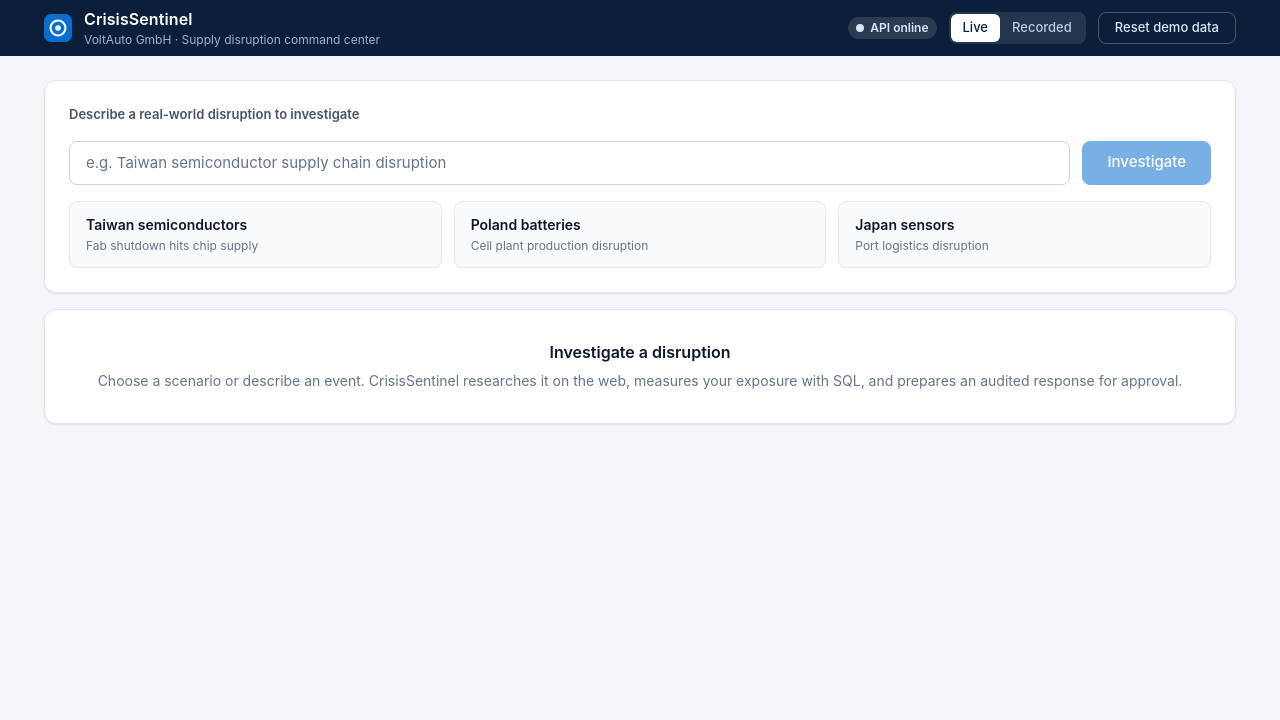
CrisisSentinel UI › renders the recorded Taiwan run with SQL-derived KPIs, plan, critic and evidence
The image size is (1280, 720).
Click the button "Recorded" at (1042, 28), box [1000, 14, 1084, 42]
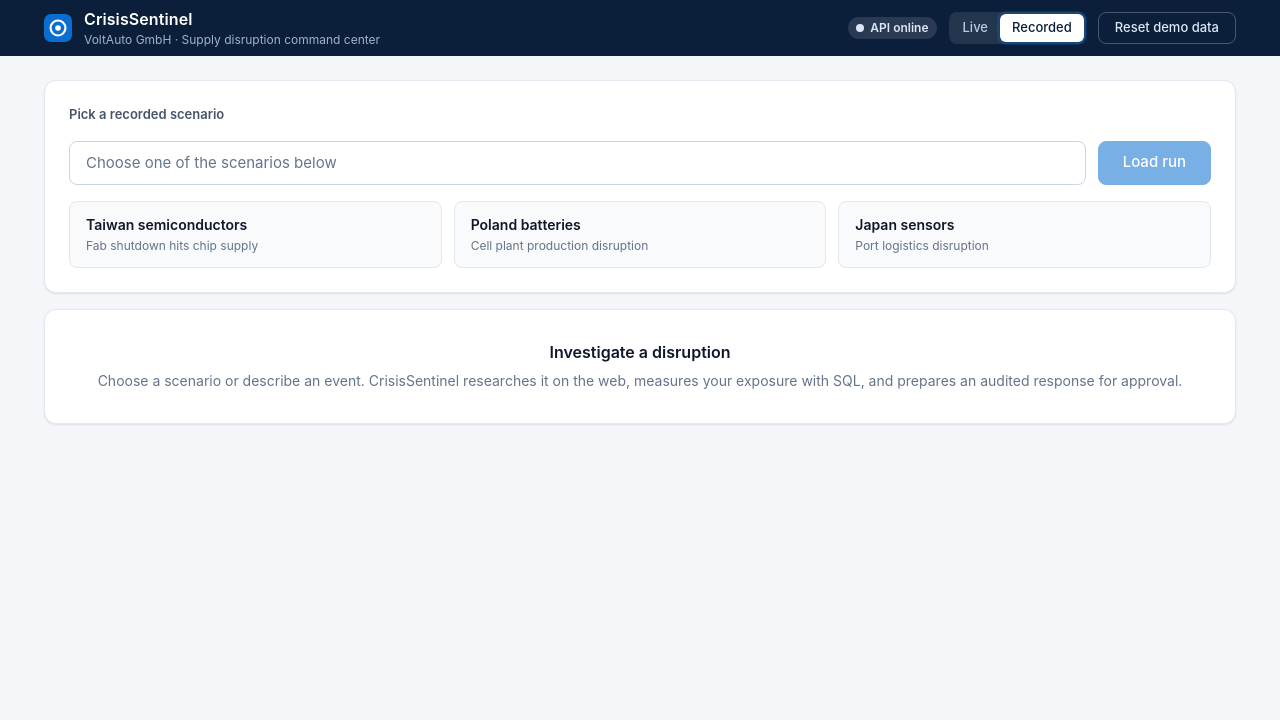
Click the button "Taiwan semiconductors Fab shutdown hits chip supply" at (167, 224), box [69, 200, 442, 268]
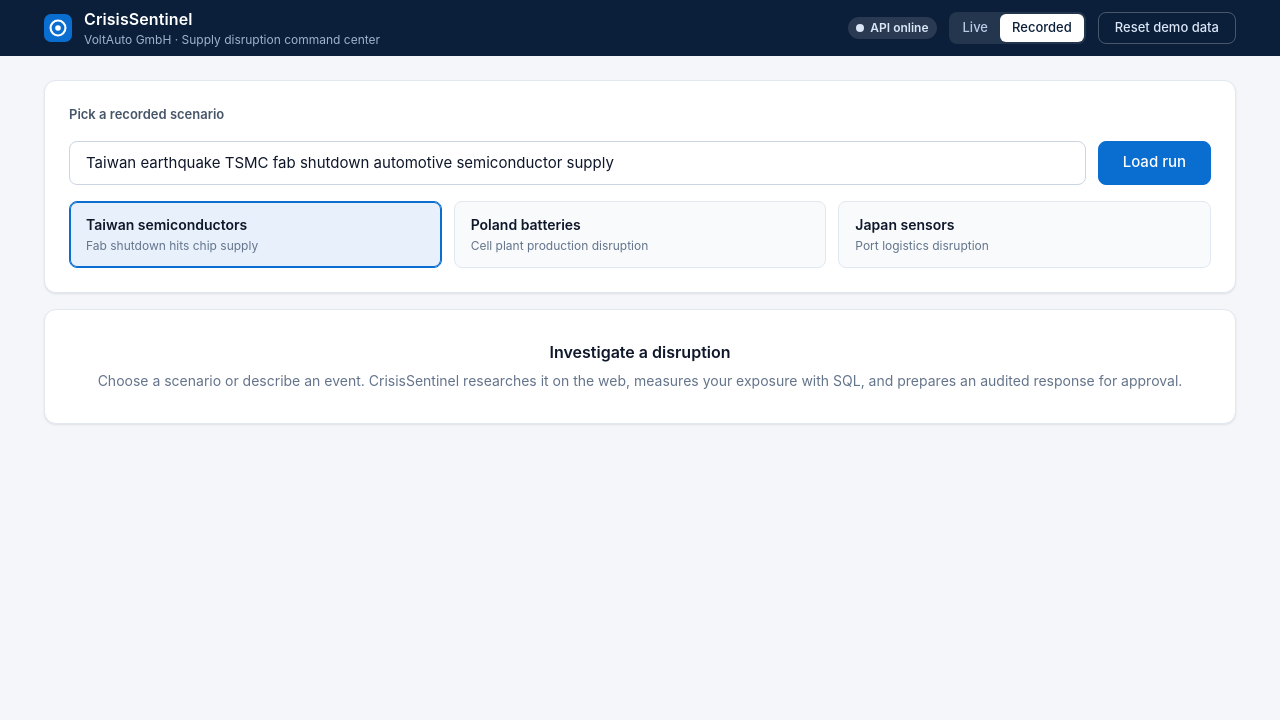
Click the button "Load run" at (1154, 162), box [1098, 140, 1211, 184]
(page scrolled)
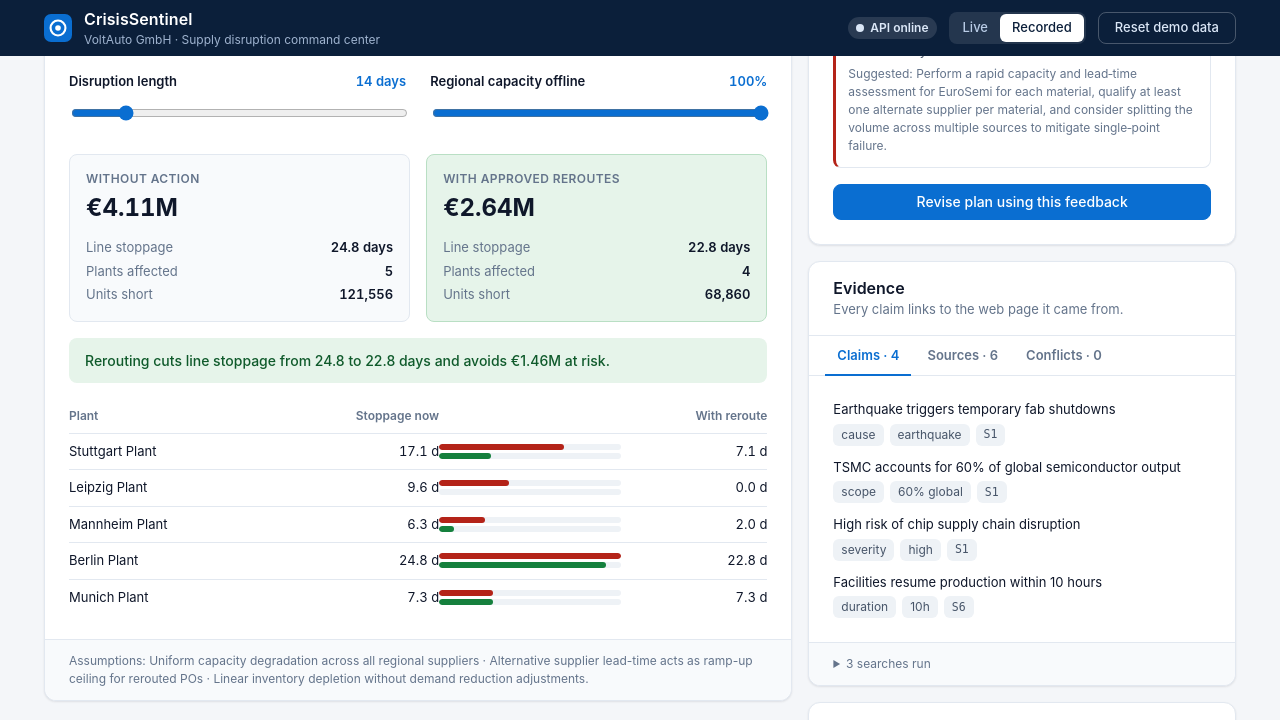
Expected: the heading "Evidence" is shown, [833, 278, 905, 298]
Expected: the text "Rerouting cuts line stoppage" is shown, [85, 352, 610, 369]
